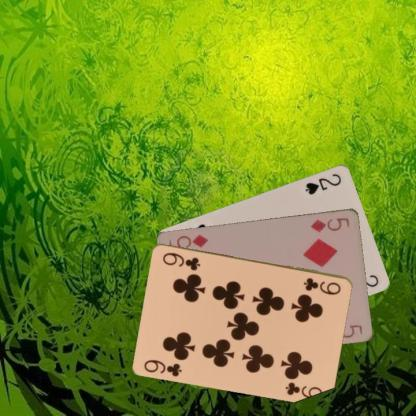2s: (302, 170, 343, 196)
5d: (308, 215, 351, 233)
9c: (142, 356, 184, 378), (301, 275, 343, 296)
